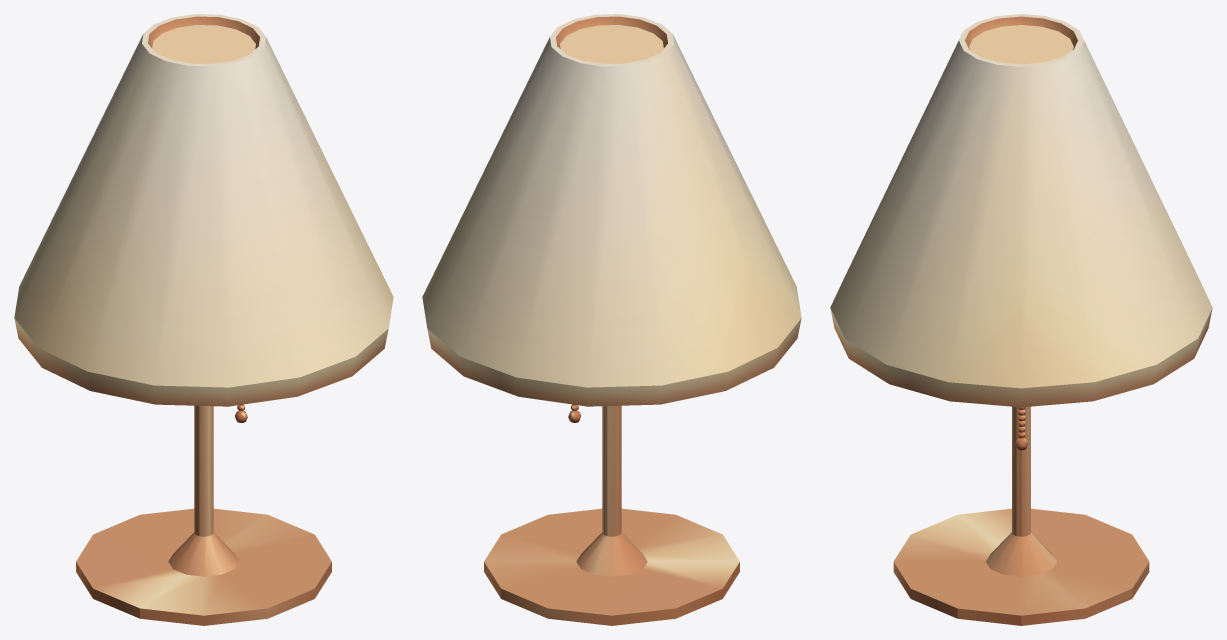
Rendered from Doll_OB_lamp_1.fbx.
3 views of the same model, side by side, from view 1: azimuth 30°, elevation 25°; view 2: azimuth 150°, elevation 25°; view 3: azimuth 270°, elevation 25° (orthographic).
Visible parts, largest first — view 1: Doll_OB_lamp_1_1, Doll_OB_lamp_1_2; view 2: Doll_OB_lamp_1_1, Doll_OB_lamp_1_2; view 3: Doll_OB_lamp_1_1, Doll_OB_lamp_1_2.
Part boxes in pixels (<box>): Doll_OB_lamp_1_1: <box>14,14,393,406</box>; Doll_OB_lamp_1_2: <box>76,405,331,625</box>; Doll_OB_lamp_1_1: <box>422,14,801,406</box>; Doll_OB_lamp_1_2: <box>484,405,739,625</box>; Doll_OB_lamp_1_1: <box>830,14,1212,407</box>; Doll_OB_lamp_1_2: <box>893,406,1149,625</box>.
Bounding box in the file's own units: 17.7 × 27.15 × 17.7.
